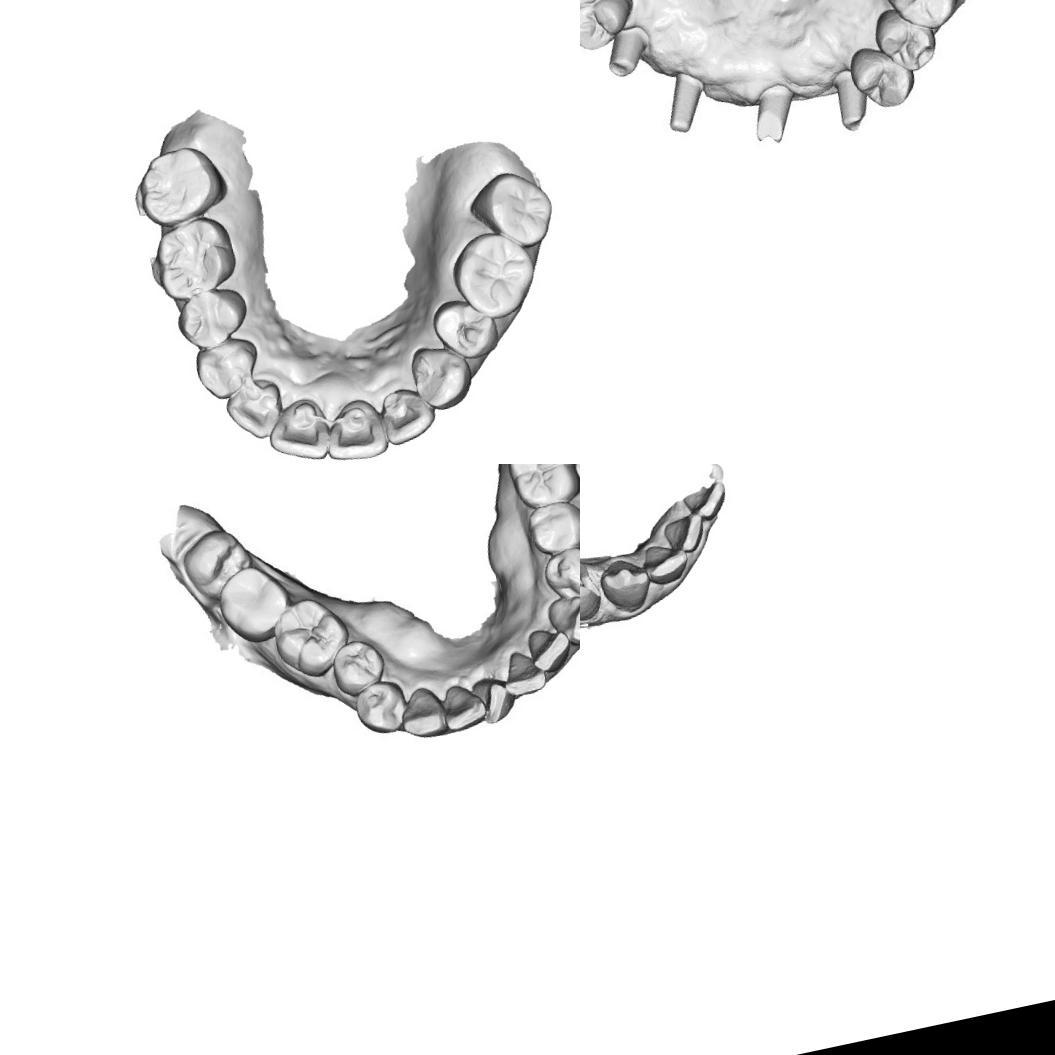abutment: (742, 72, 804, 151), (654, 64, 718, 139), (824, 64, 872, 136), (599, 21, 657, 80)
canine: (405, 337, 482, 418), (188, 333, 268, 408), (594, 550, 658, 618), (394, 685, 448, 744), (545, 586, 580, 651)
incisor: (315, 392, 392, 464), (221, 374, 293, 447), (261, 393, 332, 464), (372, 382, 440, 448), (638, 536, 694, 590), (439, 678, 491, 733), (677, 481, 731, 526), (526, 623, 572, 675), (660, 511, 710, 557), (472, 676, 518, 724), (505, 653, 550, 701)
inlay: (580, 560, 602, 611)
molar: (443, 222, 545, 328), (129, 135, 234, 232), (463, 162, 562, 260), (145, 210, 244, 304), (266, 594, 351, 684), (174, 518, 258, 598), (216, 562, 292, 650), (868, 0, 974, 38), (503, 464, 580, 508)
premolar: (169, 282, 257, 356), (866, 0, 943, 78), (843, 39, 920, 117), (428, 293, 503, 366), (326, 632, 388, 690), (580, 0, 643, 55), (354, 677, 411, 737), (527, 495, 580, 557), (544, 543, 580, 606)
